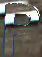Parking: (1, 2, 39, 56)
